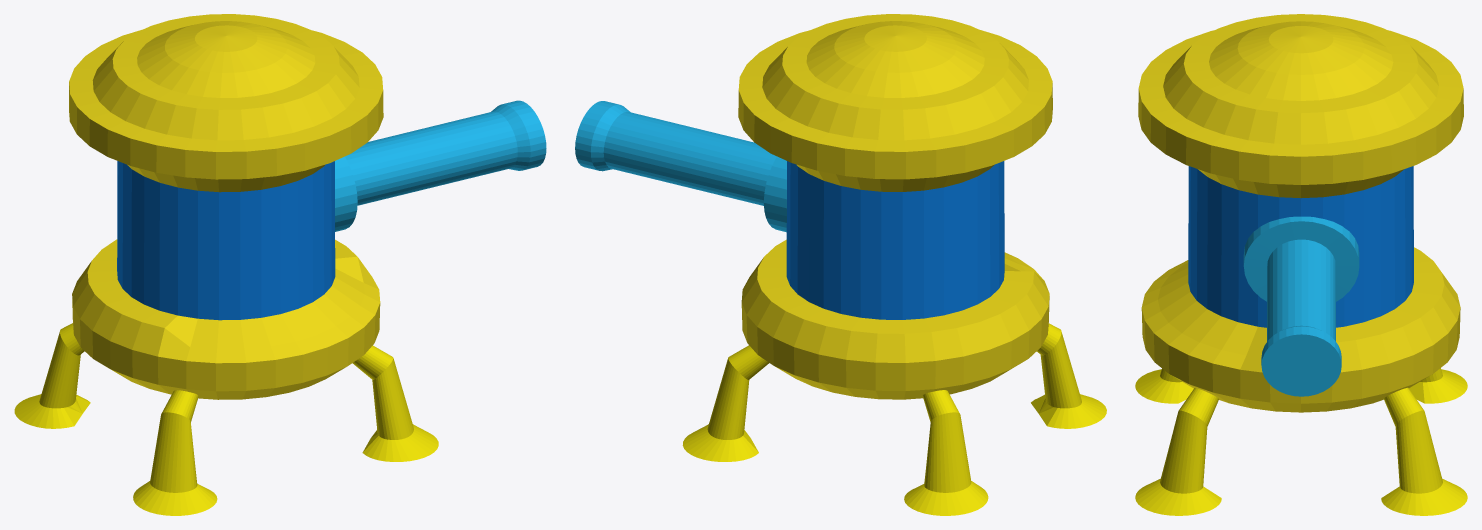
Rendered from turet_v1.glb.
3 renders of one model, left to right at view 1: azimuth 30°, elevation 25°; view 2: azimuth 150°, elevation 25°; view 3: azimuth 270°, elevation 25°, orthographic. The views are drawn at different scales.
Visible parts, largest first — view 1: body, legs, gun; view 2: body, legs, gun; view 3: body, gun, legs.
Boxes of the visible parts, x1=… form: body: x1=69, y1=14, x2=383, y2=399; legs: x1=14, y1=323, x2=438, y2=515; gun: x1=335, y1=100, x2=546, y2=231; body: x1=738, y1=14, x2=1052, y2=399; legs: x1=682, y1=323, x2=1106, y2=515; gun: x1=575, y1=101, x2=786, y2=232; body: x1=1138, y1=14, x2=1463, y2=412; gun: x1=1243, y1=216, x2=1359, y2=396; legs: x1=1135, y1=368, x2=1467, y2=515.
Bounding box in the file's own units: 4.11 × 3.44 × 2.56.
